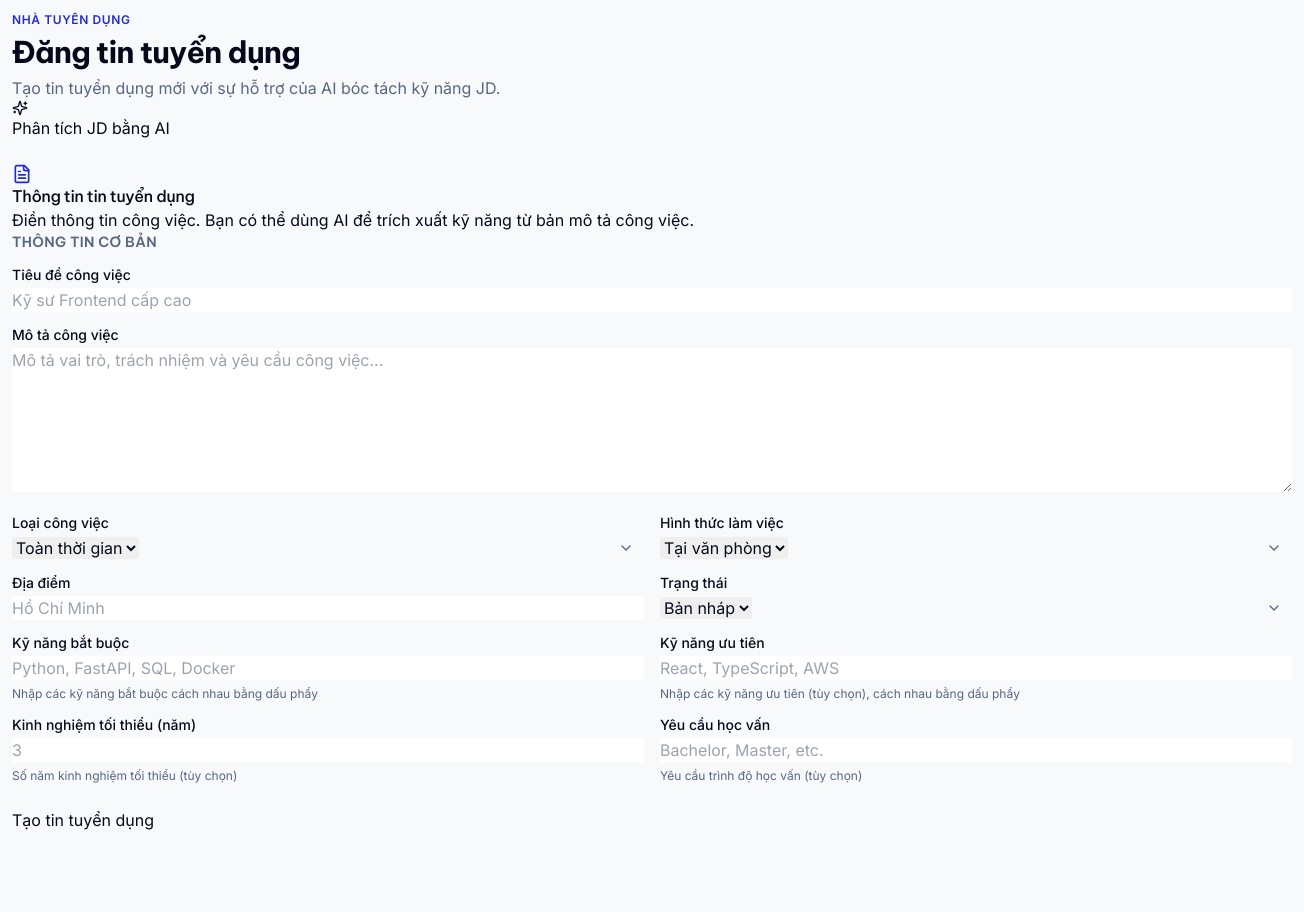
Test case: JobCreatePage › creates a job successfully
The image size is (1304, 912).
Type "Senior Frontend Engineer" into the field labelled "Tiêu đề công việc" at (652, 300), box [12, 288, 1292, 312]
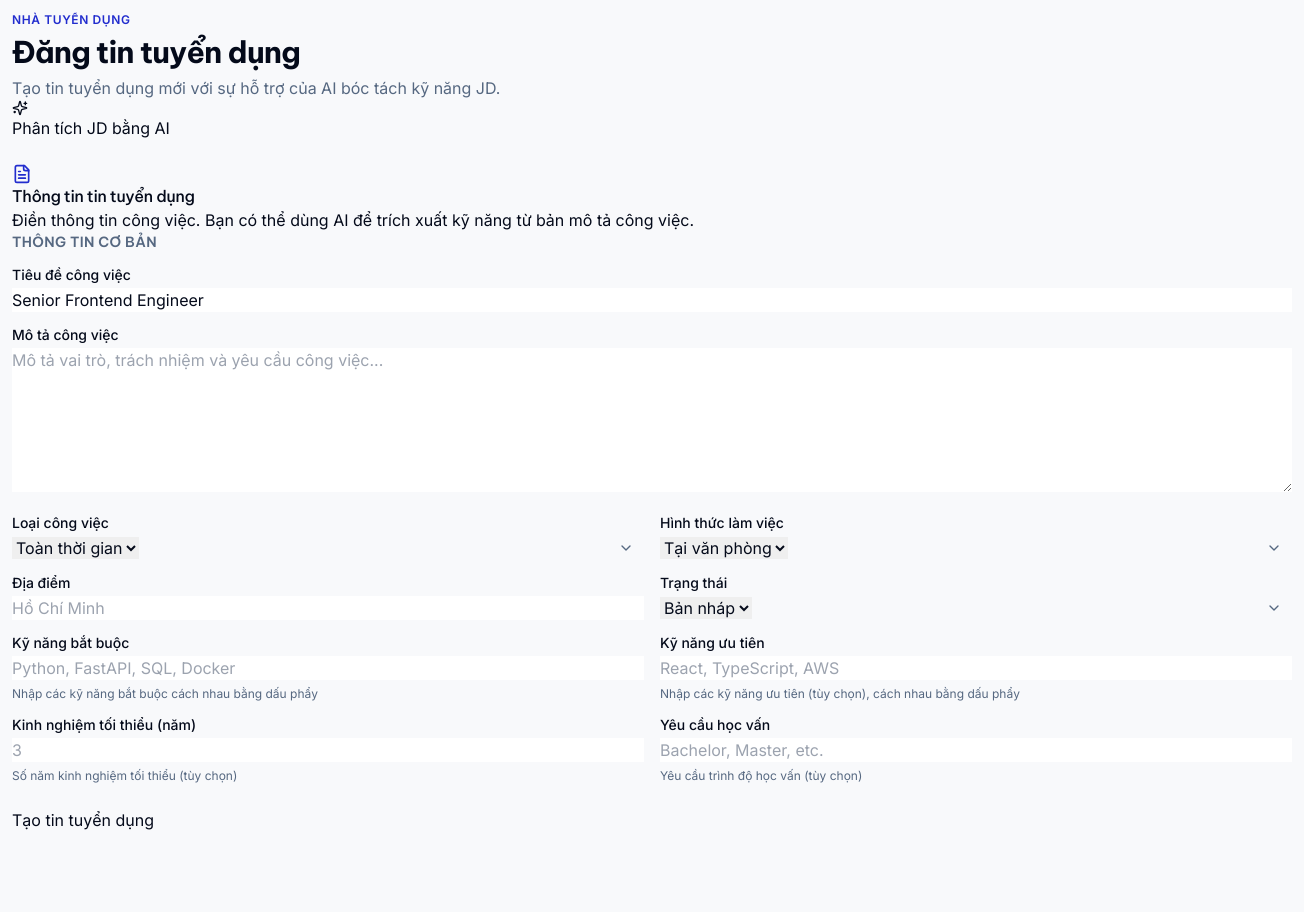
Type "Build modern web applications with React." into the text box labelled "Mô tả công việc" at (652, 420), box [12, 348, 1292, 492]
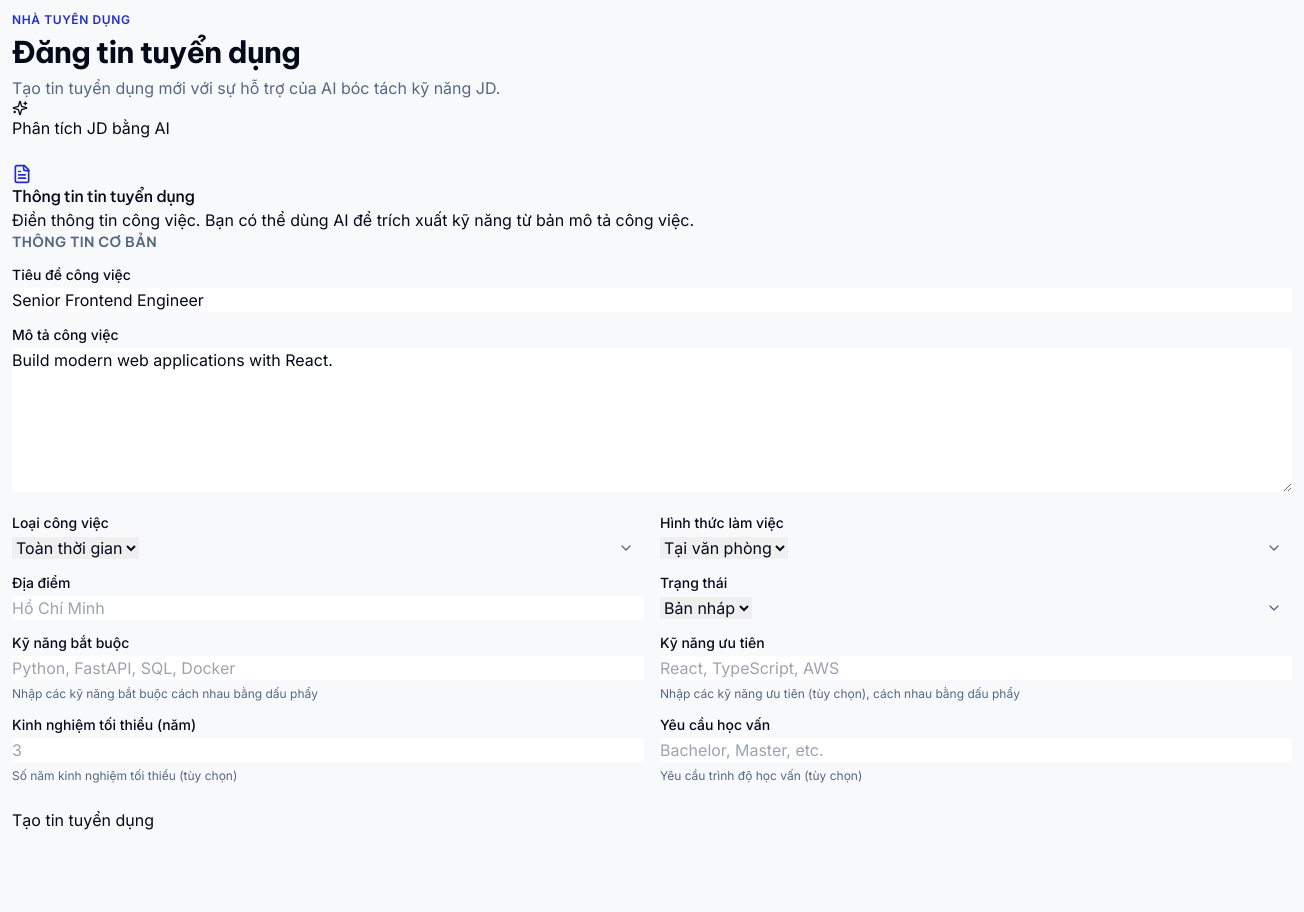
Click the button "Tạo tin tuyển dụng" at (83, 820), box [12, 808, 154, 832]
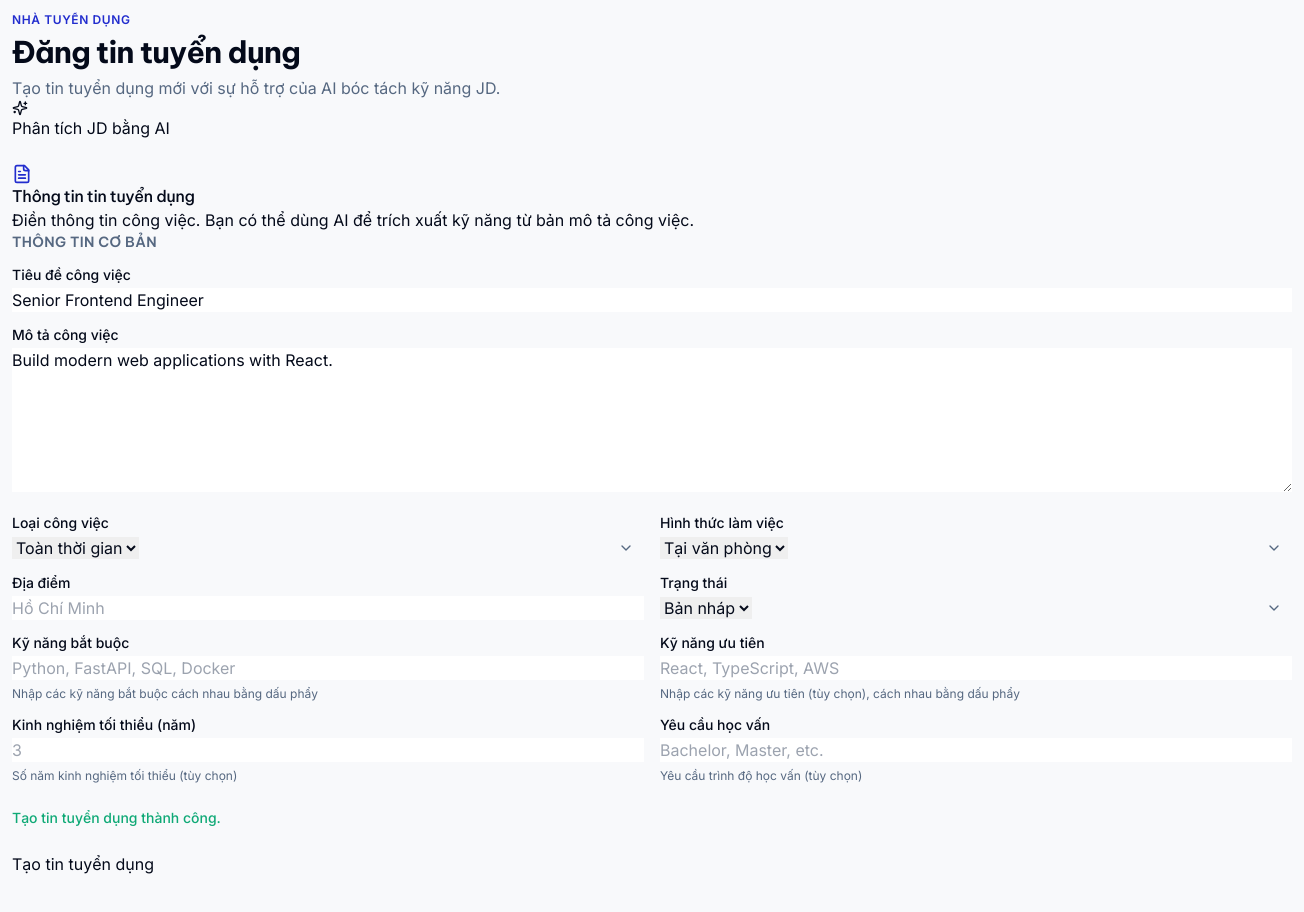
Expected: the text "Tạo tin tuyển dụng thành công." is shown, [12, 809, 221, 826]
